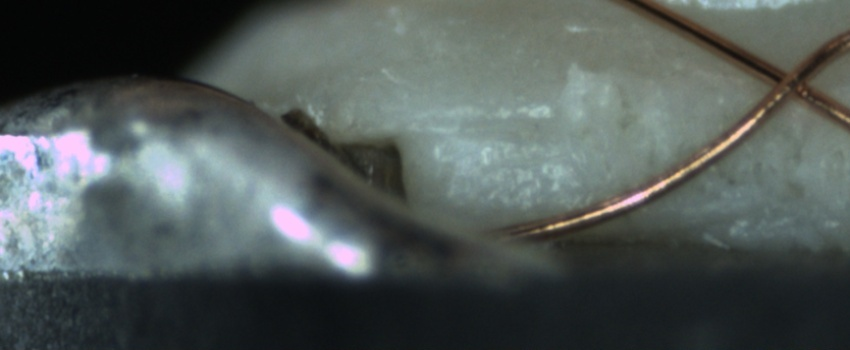CL: (751, 44, 826, 113)
DL: (425, 94, 580, 158)
